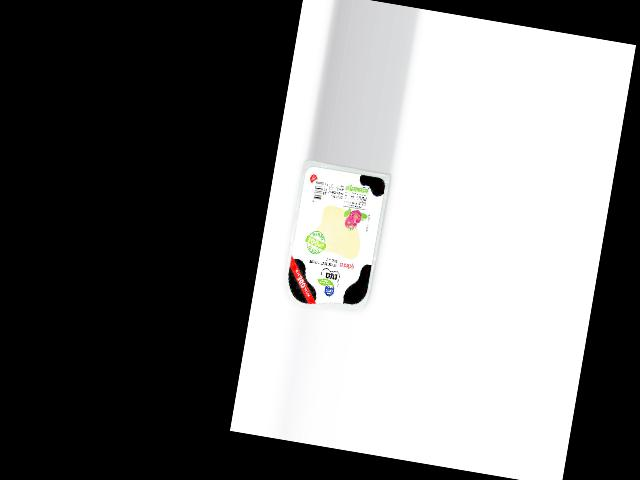cheese: (279, 159, 391, 318)
